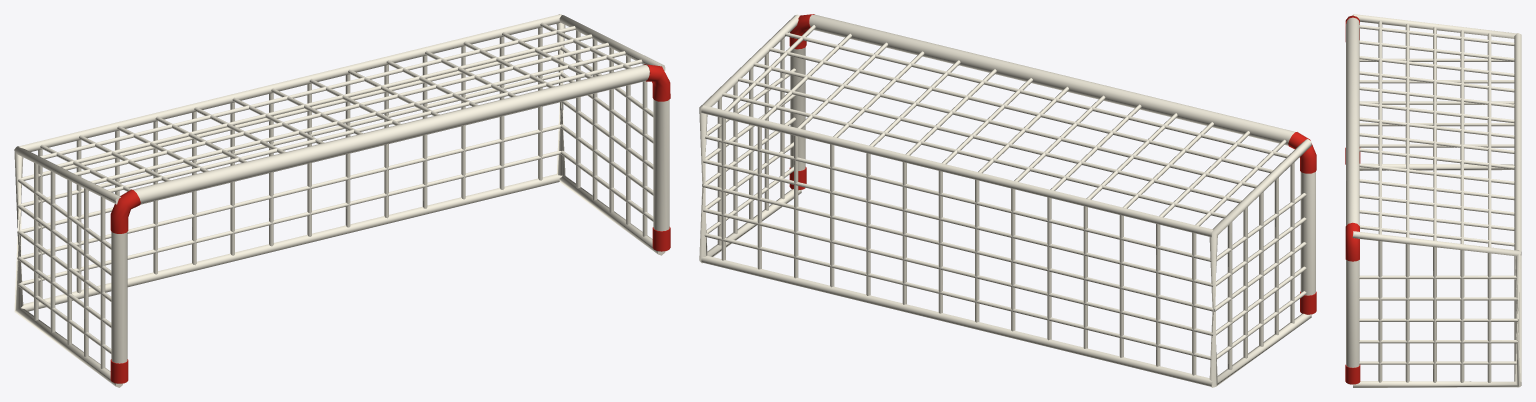
File: goal.fbx
3 renders of one model, left to right at view 1: azimuth 30°, elevation 25°; view 2: azimuth 150°, elevation 25°; view 3: azimuth 270°, elevation 25°, orthographic. The views are drawn at different scales.
Parts seen in each view (by area): view 1: goal; view 2: goal; view 3: goal.
Part boxes in pixels (x1=…): goal: x1=14, y1=14, x2=670, y2=387; goal: x1=699, y1=14, x2=1316, y2=387; goal: x1=1345, y1=14, x2=1521, y2=387.
Bounding box in the file's own units: 2400 × 800 × 800.
Materials: 1 (1 with a texture image).
